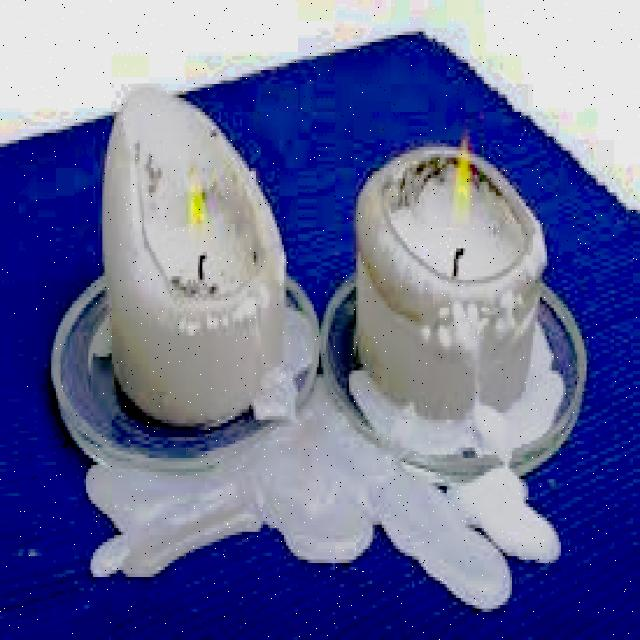api: (443, 134, 483, 232), (183, 166, 220, 260)
